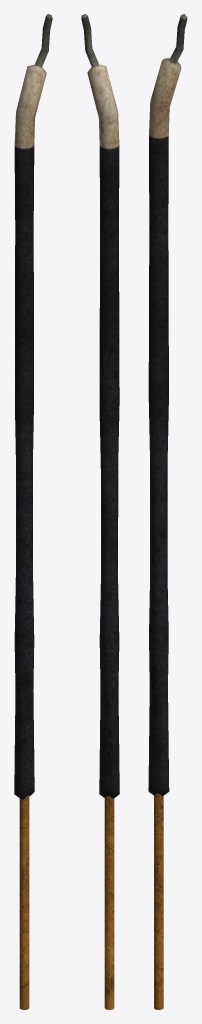
Rendered from incense_stick_04.DAE.
The picture shows the model from 3 angles, left to right: view 1: azimuth 30°, elevation 25°; view 2: azimuth 150°, elevation 25°; view 3: azimuth 330°, elevation 25°; orthographic projection.
Parts seen in each view (by area): view 1: incense_stick_04; view 2: incense_stick_04; view 3: incense_stick_04.
Boxes of the visible parts, x1=… form: incense_stick_04: x1=14, y1=14, x2=52, y2=1009; incense_stick_04: x1=81, y1=14, x2=119, y2=1009; incense_stick_04: x1=148, y1=14, x2=187, y2=1009.
Bounding box in the file's own units: 1.36 × 34.95 × 0.6626.
